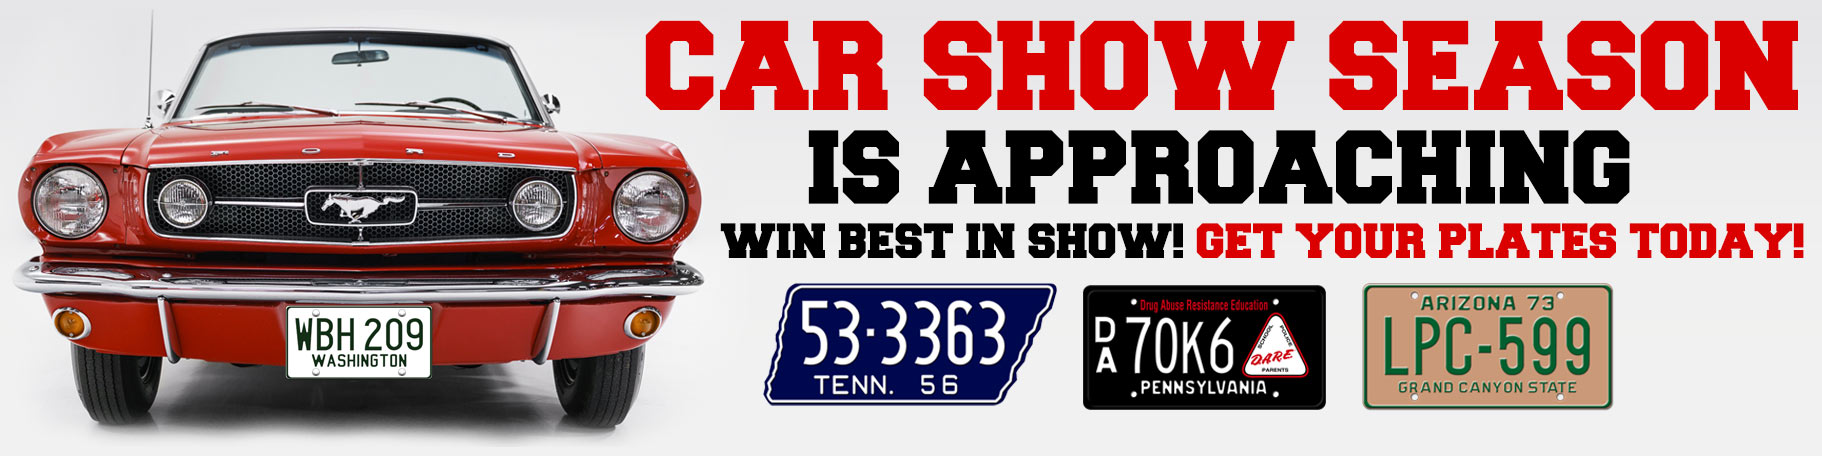license plate: (276, 303, 446, 383)
